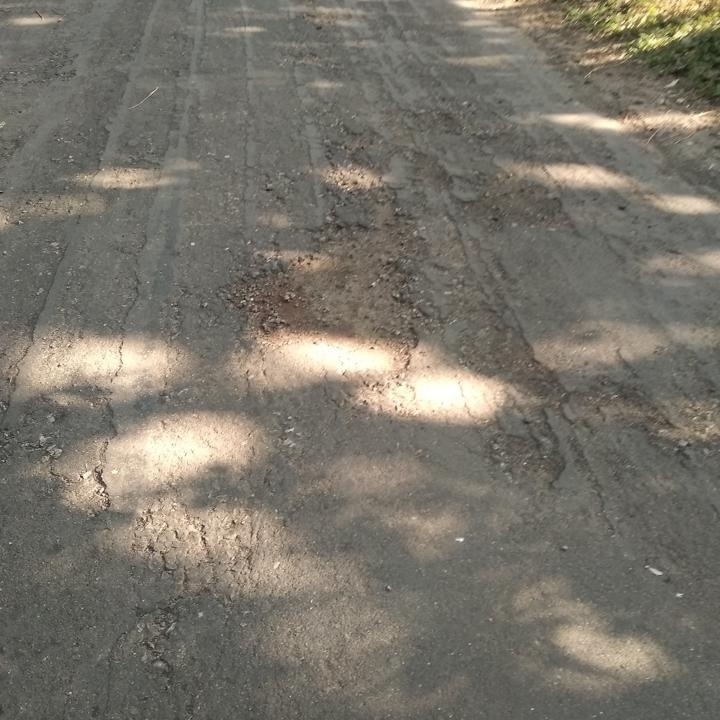pothole: (212, 205, 423, 399)
